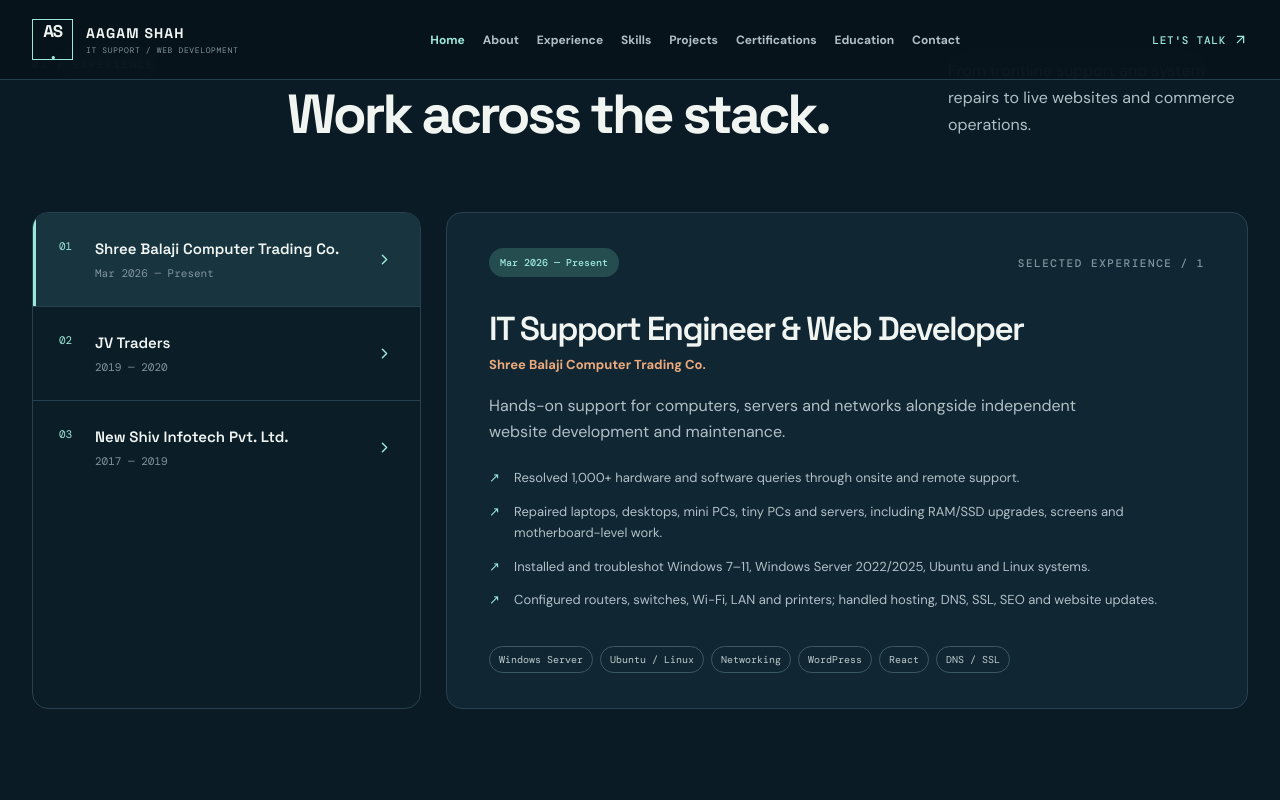
Scenario: portfolio › switches experience with accessible tabs
(page scrolled)
Click the tab "03 New Shiv Infotech Pvt. Ltd. 2017 — 2019".
click(227, 448)  # box [33, 401, 420, 494]
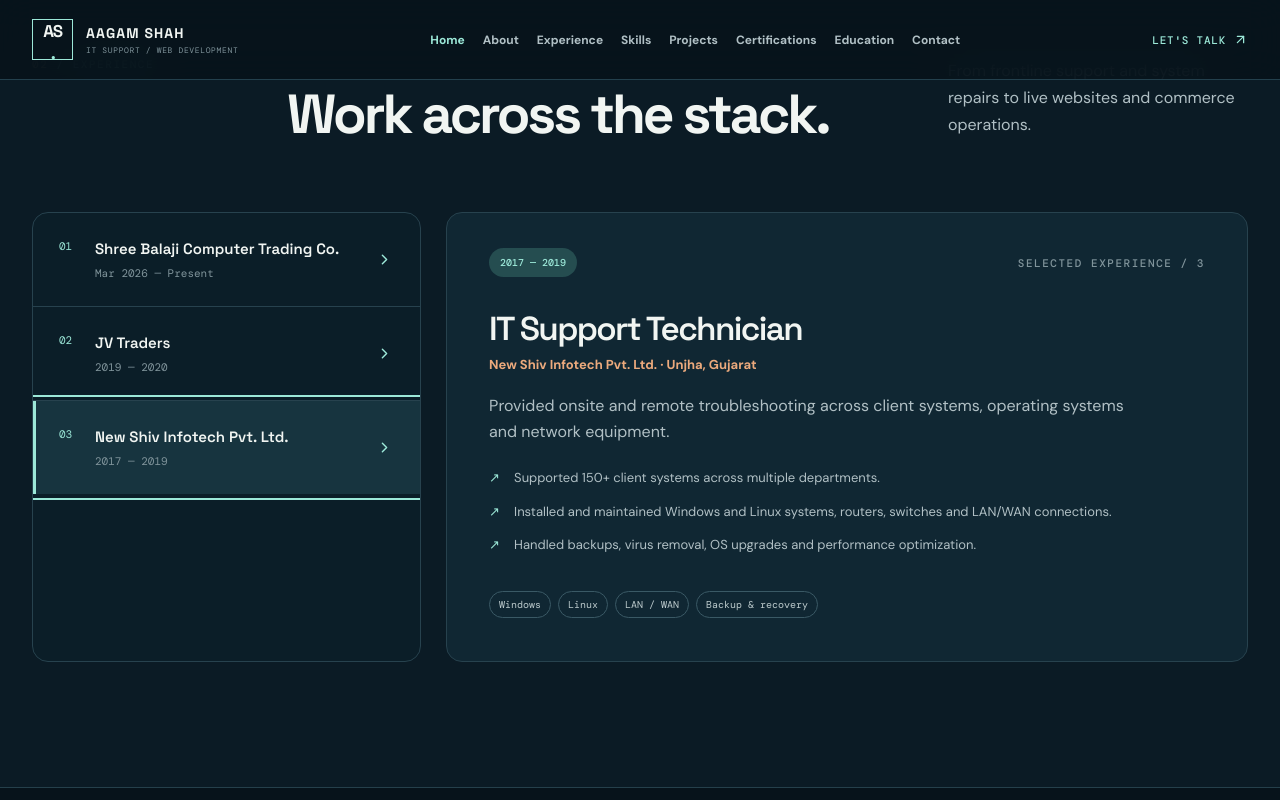
Check: the heading "IT Support Technician" is shown, box [489, 307, 802, 350]
Press Arrowup
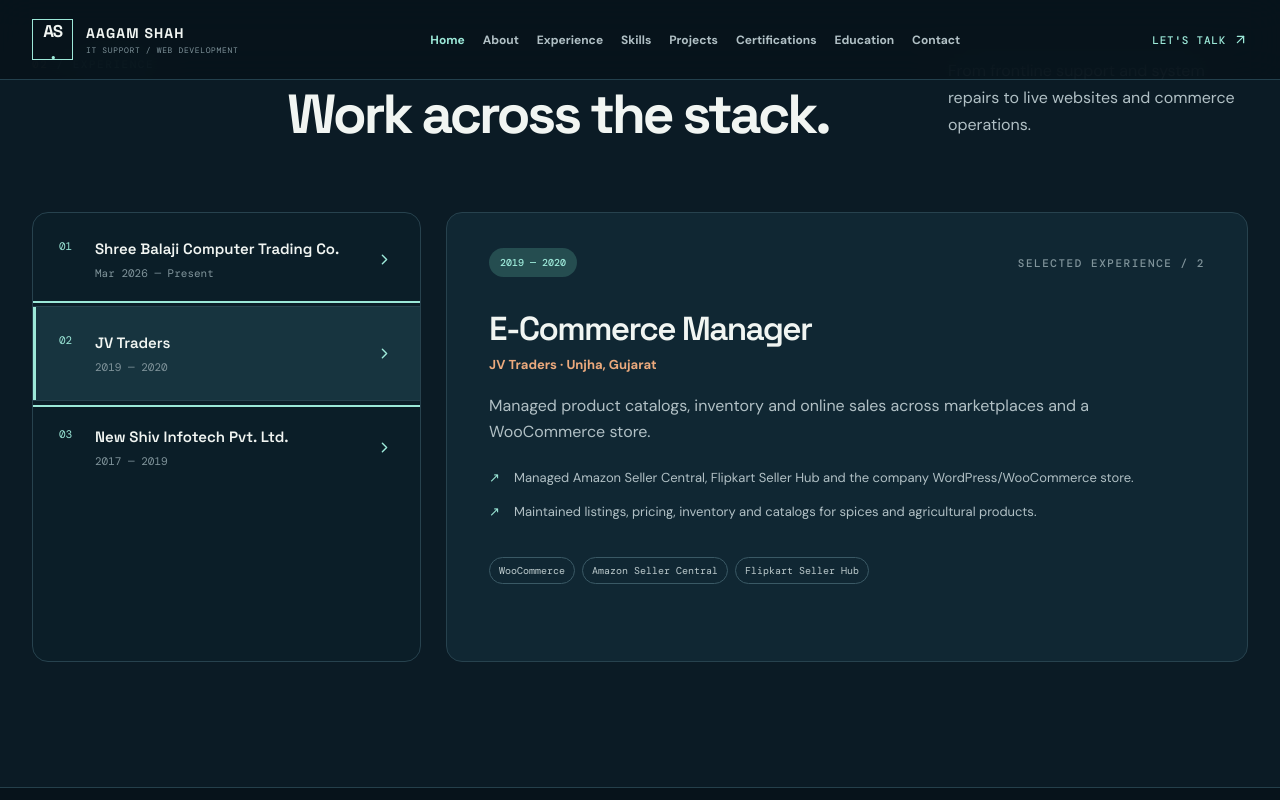
Check: the heading "E-Commerce Manager" is shown, box [489, 307, 811, 350]
